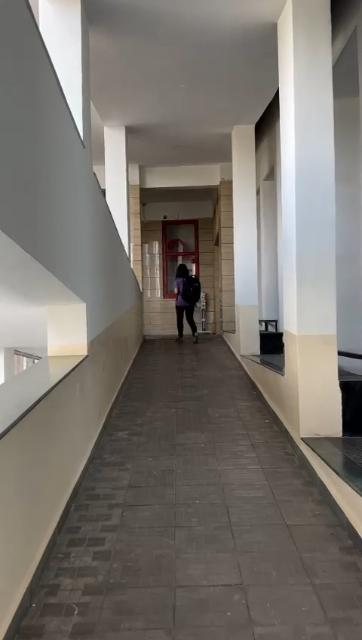floor: (9, 339, 362, 640)
moving-obj: (165, 260, 209, 344)
wall: (0, 5, 146, 630), (283, 10, 333, 432), (226, 132, 256, 362), (108, 136, 138, 366)
